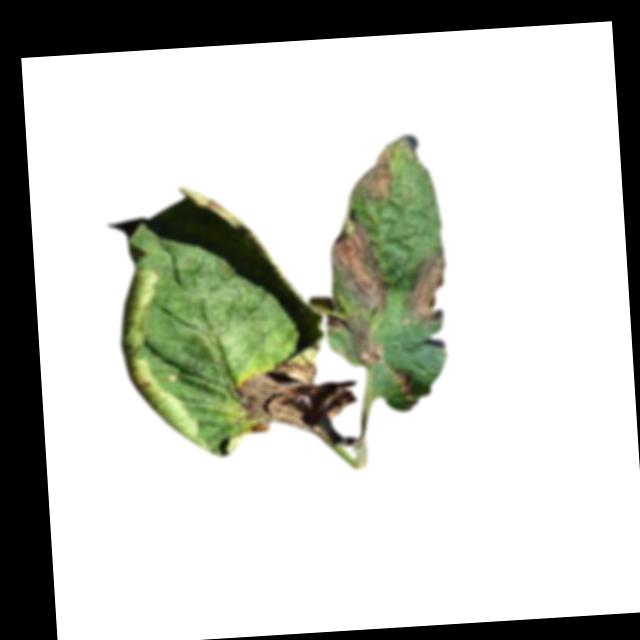Late_blight: (229, 352, 358, 432), (327, 208, 390, 315), (401, 247, 450, 325), (325, 310, 384, 371), (347, 148, 394, 200), (384, 363, 416, 399)
